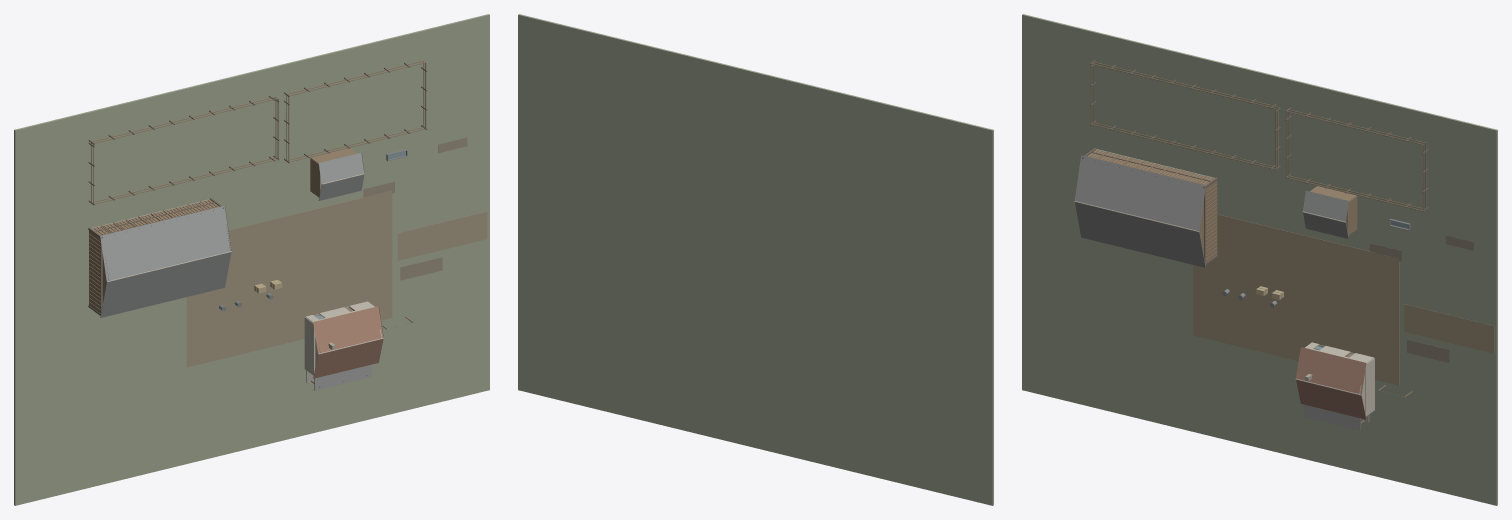
File: LRP04_prepared.glb
3 renders of one model, left to right at view 1: azimuth 30°, elevation 25°; view 2: azimuth 150°, elevation 25°; view 3: azimuth 330°, elevation 25°, orthographic.
Visible parts, largest first — view 1: TERRENO_BASE_0001, TERREIRO_0003, GALPAO_TELHADO_AGUA_NORTE_0189, GALPAO_TELHADO_AGUA_SUL_0188, ESTRADA_TERRA_0002, CASA_TELHADO_AGUA_NORTE_0046, CASA_TELHADO_AGUA_SUL_0045, DEPOSITO_RACAO_TELHADO_AGUA_NORTE_0217, CASA_VARANDA_COBERTURA_0049, DEPOSITO_RACAO_TELHADO_AGUA_SUL_0216, CASA_LATERAL_INTEGRA_0008, SOLO_BARRO_UMIDO_0004; view 2: TERRENO_BASE_0001; view 3: TERRENO_BASE_0001, TERREIRO_0003, GALPAO_TELHADO_AGUA_NORTE_0189, GALPAO_TELHADO_AGUA_SUL_0188, ESTRADA_TERRA_0002, CASA_TELHADO_AGUA_NORTE_0046, CASA_TELHADO_AGUA_SUL_0045, DEPOSITO_RACAO_TELHADO_AGUA_NORTE_0217, CASA_VARANDA_COBERTURA_0049, DEPOSITO_RACAO_TELHADO_AGUA_SUL_0216, SOLO_BARRO_UMIDO_0004, CASA_LATERAL_INTEGRA_0009.
Boxes of the visible parts, x1,y1,x2,y2 form: TERRENO_BASE_0001: (14, 14, 489, 505); TERREIRO_0003: (186, 190, 392, 367); GALPAO_TELHADO_AGUA_NORTE_0189: (100, 205, 231, 281); GALPAO_TELHADO_AGUA_SUL_0188: (100, 252, 231, 317); ESTRADA_TERRA_0002: (397, 211, 487, 260); CASA_TELHADO_AGUA_NORTE_0046: (313, 306, 383, 353); CASA_TELHADO_AGUA_SUL_0045: (313, 339, 383, 378); DEPOSITO_RACAO_TELHADO_AGUA_NORTE_0217: (318, 152, 364, 183); CASA_VARANDA_COBERTURA_0049: (314, 364, 371, 390); DEPOSITO_RACAO_TELHADO_AGUA_SUL_0216: (318, 175, 364, 200); CASA_LATERAL_INTEGRA_0008: (304, 317, 315, 375); SOLO_BARRO_UMIDO_0004: (400, 257, 442, 280); TERRENO_BASE_0001: (518, 14, 993, 505); TERRENO_BASE_0001: (1022, 14, 1497, 505); TERREIRO_0003: (1193, 214, 1399, 385); GALPAO_TELHADO_AGUA_NORTE_0189: (1075, 155, 1205, 231); GALPAO_TELHADO_AGUA_SUL_0188: (1075, 202, 1205, 267); ESTRADA_TERRA_0002: (1404, 304, 1494, 353); CASA_TELHADO_AGUA_NORTE_0046: (1296, 347, 1366, 394); CASA_TELHADO_AGUA_SUL_0045: (1296, 380, 1366, 419); DEPOSITO_RACAO_TELHADO_AGUA_NORTE_0217: (1303, 190, 1348, 221); CASA_VARANDA_COBERTURA_0049: (1303, 404, 1360, 430); DEPOSITO_RACAO_TELHADO_AGUA_SUL_0216: (1303, 212, 1348, 238); SOLO_BARRO_UMIDO_0004: (1407, 339, 1449, 362); CASA_LATERAL_INTEGRA_0009: (1365, 358, 1374, 416).
Size of the model in its own units: 90 by 68 by 6.93.
